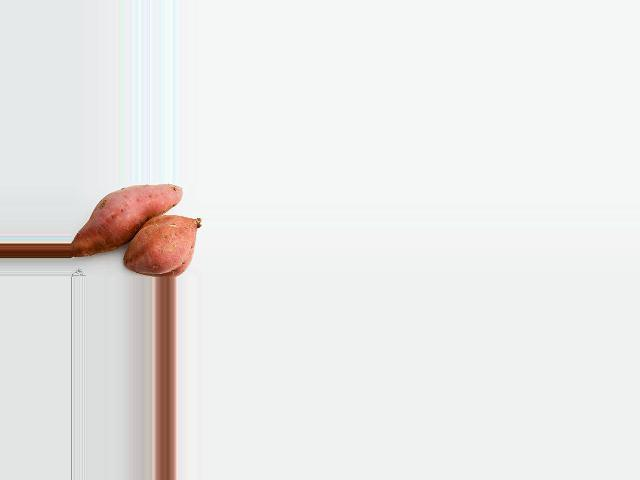sweet_potato: (127, 220, 202, 269)
